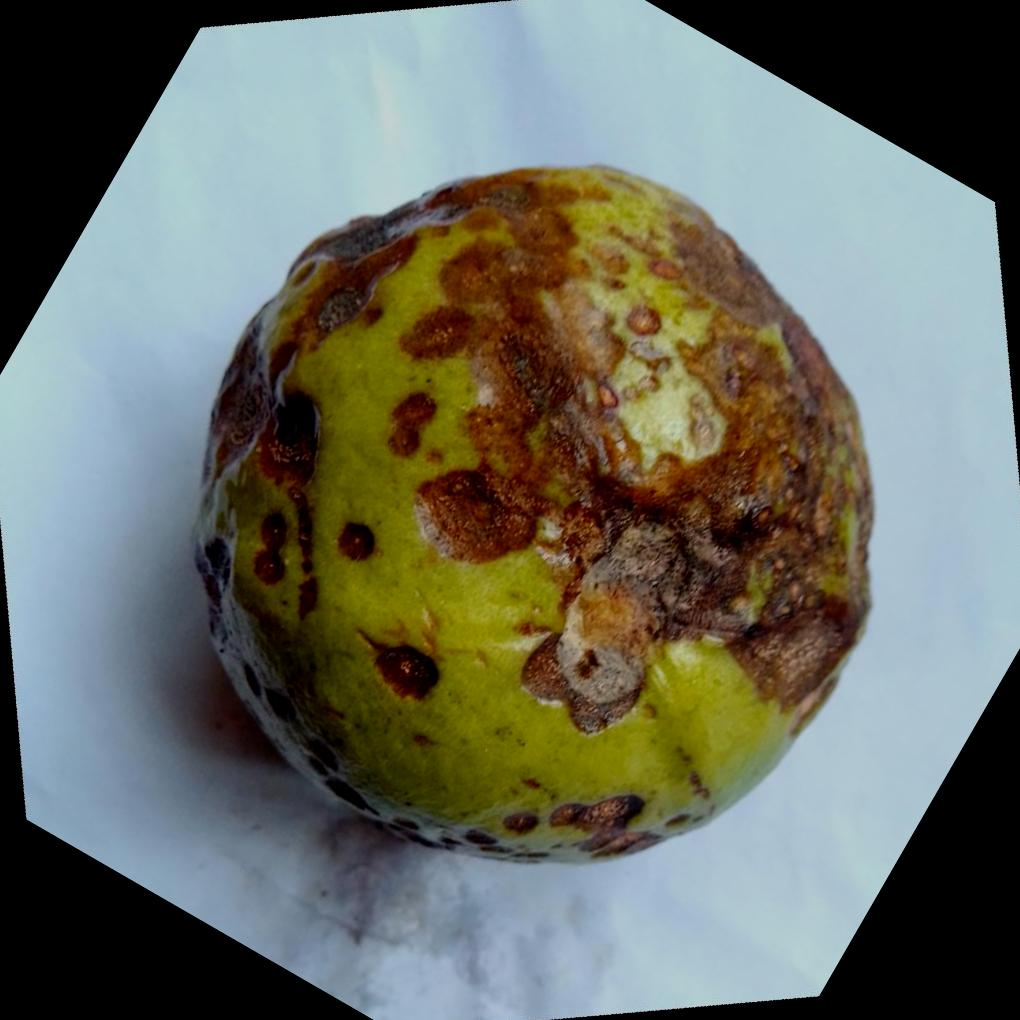FreshOrange: (191, 163, 878, 865)
